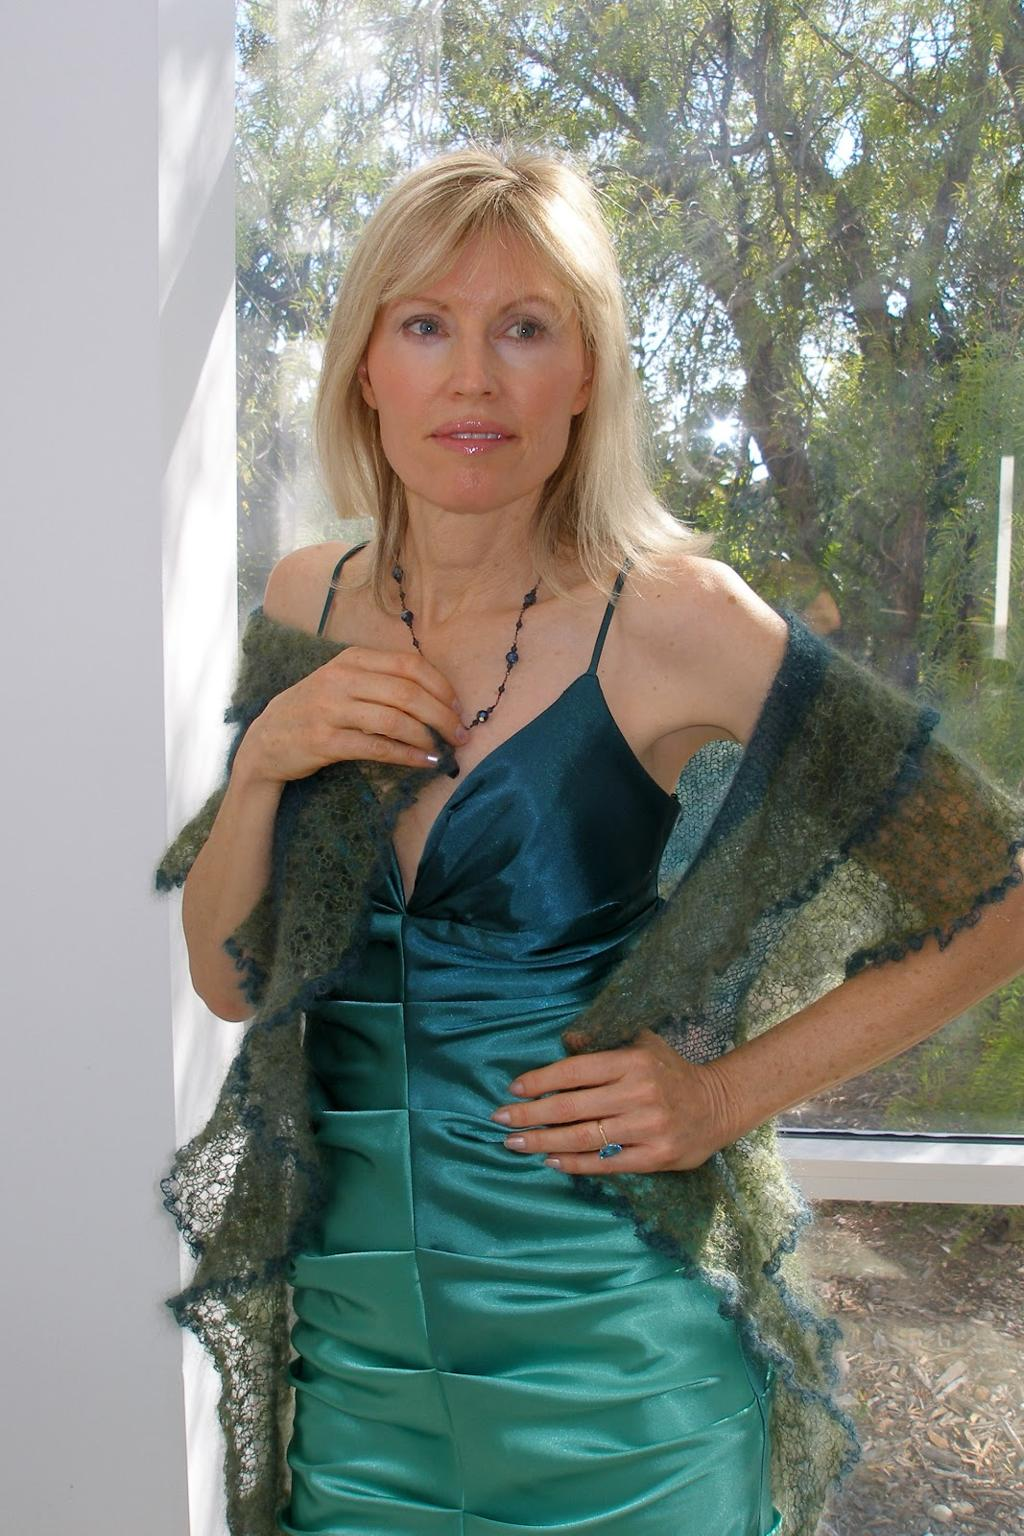face: (369, 195, 582, 504)
